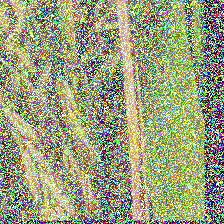Bacterial_Leaf_Blight: (135, 5, 166, 37), (154, 56, 172, 78)
